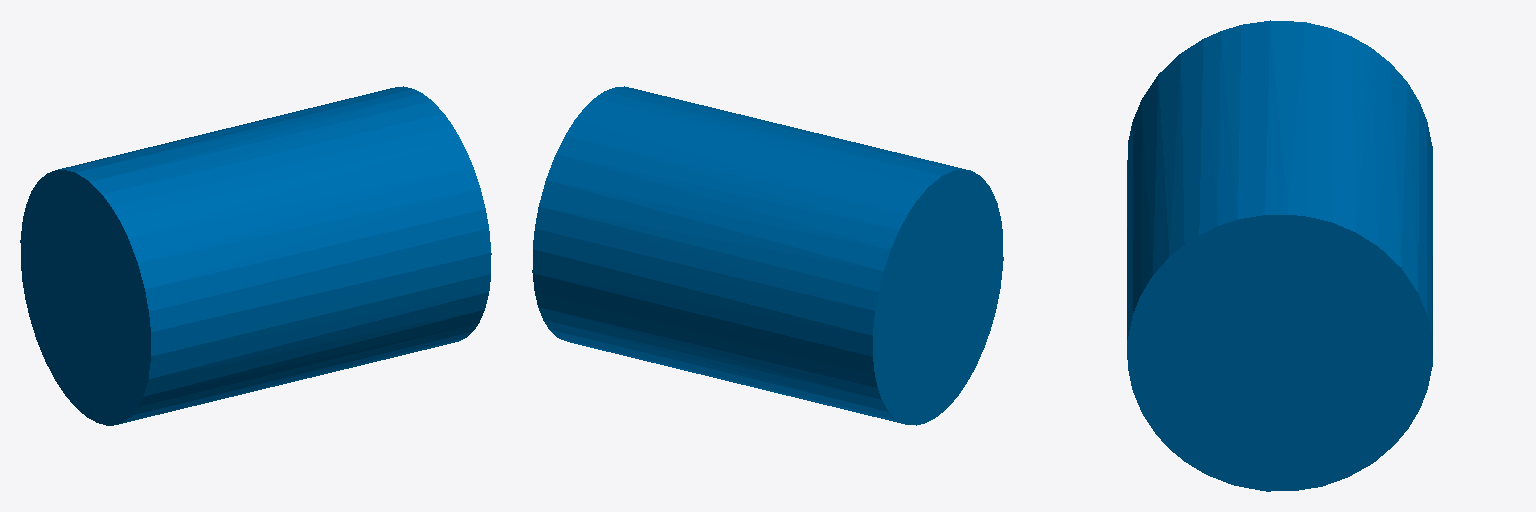
URDF robot description (panda):
<?xml version="1.0"?>
<!-- =================================================================================== -->
<!-- |    This document was autogenerated by xacro from /opt/ros/noetic/share/franka_description/robots/panda/panda.urdf.xacro | -->
<!-- |    EDITING THIS FILE BY HAND IS NOT RECOMMENDED                                 | -->
<!-- =================================================================================== -->
<robot name="panda">
    <!-- sub-link defining detailed meshes for collision with environment -->
    <link name="panda_link0">
        <visual>
            <geometry>
                <mesh filename="package://franka_description/meshes/visual/link0.dae" />
            </geometry>
        </visual>
        <collision>
            <geometry>
                <mesh filename="package://franka_description/meshes/collision/link0.stl" />
            </geometry>
        </collision>
        <inertial>
            <origin rpy="0 0 0" xyz="-0.0 -0.0000 0.00" />
            <mass value="0.629769" />
            <inertia ixx="0.00315" ixy="8.2904e-07" ixz="0.00015" iyy="0.00388" iyz="8.2299e-06" izz="0.004285" />
        </inertial>
    </link>
    <!-- sub-link defining coarse geometries of real robot's internal self-collision -->
    <link name="panda_link0_sc"></link>
    <!-- fixed joint between both sub-links -->
    <joint name="panda_link0_sc_joint" type="fixed">
        <origin rpy="0 0 0" />
        <parent link="panda_link0" />
        <child link="panda_link0_sc" />
    </joint>
    <!-- sub-link defining detailed meshes for collision with environment -->
    <link name="panda_link1">
        <visual>
            <geometry>
                <mesh filename="package://franka_description/meshes/visual/link1.dae" />
            </geometry>
        </visual>
        <collision>
            <geometry>
                <mesh filename="package://franka_description/meshes/collision/link1.stl" />
            </geometry>
        </collision>
        <inertial>
            <origin rpy="0 0 0" xyz="0.003875 0.002081 -0.04762" />
            <mass value="4.970684" />
            <inertia ixx="0.70337" ixy="-0.000139" ixz="0.006772" iyy="0.70661" iyz="0.019169" izz="0.009117" />
        </inertial>
    </link>
    <!-- sub-link defining coarse geometries of real robot's internal self-collision -->
    <link name="panda_link1_sc"></link>
    <!-- fixed joint between both sub-links -->
    <joint name="panda_link1_sc_joint" type="fixed">
        <origin rpy="0 0 0" />
        <parent link="panda_link1" />
        <child link="panda_link1_sc" />
    </joint>
    <joint name="panda_joint1" type="revolute">
        <origin rpy="0 0 0" xyz="0 0 0.333" />
        <parent link="panda_link0" />
        <child link="panda_link1" />
        <axis xyz="0 0 1" />
        <limit effort="87.0" lower="-2.8973" upper="2.8973" velocity="2.175" />
        <safety_controller k_position="100.0" k_velocity="40.0" soft_lower_limit="-2.8973" soft_upper_limit="2.8973" />
        <dynamics D="1" K="7000" damping="0.003" friction="0.0" mu_coulomb="0" mu_viscous="16" />
    </joint>
    <!-- sub-link defining detailed meshes for collision with environment -->
    <link name="panda_link2">
        <visual>
            <geometry>
                <mesh filename="package://franka_description/meshes/visual/link2.dae" />
            </geometry>
        </visual>
        <collision>
            <geometry>
                <mesh filename="package://franka_description/meshes/collision/link2.stl" />
            </geometry>
        </collision>
        <inertial>
            <origin rpy="0 0 0" xyz="-0.003141 -0.02872  0.003495" />
            <mass value="0.646926" />
            <inertia ixx="0.007962" ixy="-0.003925" ixz="0.010254" iyy="0.02811" iyz="0.000704" izz="0.025995" />
        </inertial>
    </link>
    <!-- sub-link defining coarse geometries of real robot's internal self-collision -->
    <link name="panda_link2_sc"></link>
    <!-- fixed joint between both sub-links -->
    <joint name="panda_link2_sc_joint" type="fixed">
        <origin rpy="0 0 0" />
        <parent link="panda_link2" />
        <child link="panda_link2_sc" />
    </joint>
    <joint name="panda_joint2" type="revolute">
        <origin rpy="-1.5707963267948966 0 0" xyz="0 0 0" />
        <parent link="panda_link1" />
        <child link="panda_link2" />
        <axis xyz="0 0 1" />
        <limit effort="87.0" lower="-1.7628" upper="1.7628" velocity="2.175" />
        <safety_controller k_position="100.0" k_velocity="40.0" soft_lower_limit="-1.7628" soft_upper_limit="1.7628" />
        <dynamics D="1" K="7000" damping="0.003" friction="0.0" mu_coulomb="0" mu_viscous="16" />
    </joint>
    <!-- sub-link defining detailed meshes for collision with environment -->
    <link name="panda_link3">
        <visual>
            <geometry>
                <mesh filename="package://franka_description/meshes/visual/link3.dae" />
            </geometry>
        </visual>
        <collision>
            <geometry>
                <mesh filename="package://franka_description/meshes/collision/link3.stl" />
            </geometry>
        </collision>
        <inertial>
            <origin rpy="0 0 0" xyz="2.7518e-02 3.9252e-02 -6.6502e-02" />
            <mass value="3.228604" />
            <inertia ixx="0.037242" ixy="-0.004761" ixz="-0.011396" iyy="0.036155" iyz="-0.012805" izz="0.01083" />
        </inertial>
    </link>
    <!-- sub-link defining coarse geometries of real robot's internal self-collision -->
    <link name="panda_link3_sc"></link>
    <!-- fixed joint between both sub-links -->
    <joint name="panda_link3_sc_joint" type="fixed">
        <origin rpy="0 0 0" />
        <parent link="panda_link3" />
        <child link="panda_link3_sc" />
    </joint>
    <joint name="panda_joint3" type="revolute">
        <origin rpy="1.5707963267948966 0 0" xyz="0 -0.316 0" />
        <parent link="panda_link2" />
        <child link="panda_link3" />
        <axis xyz="0 0 1" />
        <limit effort="87.0" lower="-2.8973" upper="2.8973" velocity="2.175" />
        <safety_controller k_position="100.0" k_velocity="40.0" soft_lower_limit="-2.8973" soft_upper_limit="2.8973" />
        <dynamics D="1" K="7000" damping="0.003" friction="0.0" mu_coulomb="0" mu_viscous="16" />
    </joint>
    <!-- sub-link defining detailed meshes for collision with environment -->
    <link name="panda_link4">
        <visual>
            <geometry>
                <mesh filename="package://franka_description/meshes/visual/link4.dae" />
            </geometry>
        </visual>
        <collision>
            <geometry>
                <mesh filename="package://franka_description/meshes/collision/link4.stl" />
            </geometry>
        </collision>
        <inertial>
            <origin rpy="0 0 0" xyz="-5.317e-02 1.04419e-01 2.7454e-02" />
            <mass value="3.587895" />
            <inertia ixx="0.025853" ixy="0.007796" ixz="-0.001332" iyy="0.019552" iyz="0.008641" izz="0.028323" />
        </inertial>
    </link>
    <!-- sub-link defining coarse geometries of real robot's internal self-collision -->
    <link name="panda_link4_sc"></link>
    <!-- fixed joint between both sub-links -->
    <joint name="panda_link4_sc_joint" type="fixed">
        <origin rpy="0 0 0" />
        <parent link="panda_link4" />
        <child link="panda_link4_sc" />
    </joint>
    <joint name="panda_joint4" type="revolute">
        <origin rpy="1.5707963267948966 0 0" xyz="0.0825 0 0" />
        <parent link="panda_link3" />
        <child link="panda_link4" />
        <axis xyz="0 0 1" />
        <limit effort="87.0" lower="-3.0718" upper="-0.0698" velocity="2.175" />
        <safety_controller k_position="100.0" k_velocity="40.0" soft_lower_limit="-3.0718" soft_upper_limit="-0.0698" />
        <dynamics D="1" K="7000" damping="0.003" friction="0.0" mu_coulomb="0" mu_viscous="16" />
    </joint>
    <!-- sub-link defining detailed meshes for collision with environment -->
    <link name="panda_link5">
        <visual>
            <geometry>
                <mesh filename="package://franka_description/meshes/visual/link5.dae" />
            </geometry>
        </visual>
        <collision>
            <geometry>
                <mesh filename="package://franka_description/meshes/collision/link5.stl" />
            </geometry>
        </collision>
        <inertial>
            <origin rpy="0 0 0" xyz="-1.1953e-02 4.1065e-02 -3.8437e-02" />
            <mass value="1.225946" />
            <inertia ixx="0.035549" ixy="-0.002117" ixz="-0.004037" iyy="0.029474" iyz="0.000229" izz="0.008627" />
        </inertial>
    </link>
    <!-- sub-link defining coarse geometries of real robot's internal self-collision -->
    <link name="panda_link5_sc"></link>
    <!-- fixed joint between both sub-links -->
    <joint name="panda_link5_sc_joint" type="fixed">
        <origin rpy="0 0 0" />
        <parent link="panda_link5" />
        <child link="panda_link5_sc" />
    </joint>
    <joint name="panda_joint5" type="revolute">
        <origin rpy="-1.5707963267948966 0 0" xyz="-0.0825 0.384 0" />
        <parent link="panda_link4" />
        <child link="panda_link5" />
        <axis xyz="0 0 1" />
        <limit effort="12.0" lower="-2.8973" upper="2.8973" velocity="2.61" />
        <safety_controller k_position="100.0" k_velocity="40.0" soft_lower_limit="-2.8973" soft_upper_limit="2.8973" />
        <dynamics D="1" K="7000" damping="0.003" friction="0.0" mu_coulomb="0" mu_viscous="16" />
    </joint>
    <!-- sub-link defining detailed meshes for collision with environment -->
    <link name="panda_link6">
        <visual>
            <geometry>
                <mesh filename="package://franka_description/meshes/visual/link6.dae" />
            </geometry>
        </visual>
        <collision>
            <geometry>
                <mesh filename="package://franka_description/meshes/collision/link6.stl" />
            </geometry>
        </collision>
        <inertial>
            <origin rpy="0 0 0" xyz="6.0149e-02 -1.4117e-02 -1.0517e-02" />
            <mass value="1.666555" />
            <inertia ixx="0.001964" ixy="0.000109" ixz="-0.001158" iyy="0.004354" iyz="0.000341" izz="0.005433" />
        </inertial>
    </link>
    <!-- sub-link defining coarse geometries of real robot's internal self-collision -->
    <link name="panda_link6_sc"></link>
    <!-- fixed joint between both sub-links -->
    <joint name="panda_link6_sc_joint" type="fixed">
        <origin rpy="0 0 0" />
        <parent link="panda_link6" />
        <child link="panda_link6_sc" />
    </joint>
    <joint name="panda_joint6" type="revolute">
        <origin rpy="1.5707963267948966 0 0" xyz="0 0 0" />
        <parent link="panda_link5" />
        <child link="panda_link6" />
        <axis xyz="0 0 1" />
        <limit effort="12.0" lower="-0.0175" upper="3.7525" velocity="2.61" />
        <safety_controller k_position="100.0" k_velocity="40.0" soft_lower_limit="-0.0175" soft_upper_limit="3.7525" />
        <dynamics D="1" K="7000" damping="0.003" friction="0.0" mu_coulomb="0" mu_viscous="16" />
    </joint>
    <!-- sub-link defining detailed meshes for collision with environment -->
    <link name="panda_link7">
        <visual>
            <geometry>
                <mesh filename="package://franka_description/meshes/visual/link7.dae" />
            </geometry>
        </visual>
        <collision>
            <geometry>
                <mesh filename="package://franka_description/meshes/collision/link7.stl" />
            </geometry>
        </collision>
        <inertial>
            <origin rpy="0 0 0" xyz="1.0517e-02 -4.252e-03 6.1597e-02" />
            <mass value="0.735522" />
            <inertia ixx="0.012516" ixy="-0.000428" ixz="-0.001196" iyy="0.010027" iyz="-0.000741" izz="0.004815" />
        </inertial>
    </link>
    <!-- sub-link defining coarse geometries of real robot's internal self-collision -->
    <link name="panda_link7_sc"></link>
    <!-- fixed joint between both sub-links -->
    <joint name="panda_link7_sc_joint" type="fixed">
        <origin rpy="0 0 0.7853981633974483" />
        <parent link="panda_link7" />
        <child link="panda_link7_sc" />
    </joint>
    <joint name="panda_joint7" type="revolute">
        <origin rpy="1.5707963267948966 0 0" xyz="0.088 0 0" />
        <parent link="panda_link6" />
        <child link="panda_link7" />
        <axis xyz="0 0 1" />
        <limit effort="12.0" lower="-2.8973" upper="2.8973" velocity="2.61" />
        <safety_controller k_position="100.0" k_velocity="40.0" soft_lower_limit="-2.8973" soft_upper_limit="2.8973" />
        <dynamics D="1" K="7000" damping="0.003" friction="0.0" mu_coulomb="0" mu_viscous="16" />
    </joint>
    <link name="panda_link8" />
    <joint name="panda_joint8" type="fixed">
        <origin rpy="0 0 0" xyz="0 0 0.107" />
        <parent link="panda_link7" />
        <child link="panda_link8" />
    </joint>
    <joint name="panda_hand_joint" type="fixed">
        <parent link="panda_link8" />
        <child link="panda_hand" />
        <origin rpy="0 0 -0.7853981633974483" xyz="0 0 0" />
    </joint>
    <!-- sub-link defining detailed meshes for collision with environment -->
    <link name="panda_hand">
        <visual>
            <geometry>
                <mesh filename="package://franka_description/meshes/visual/hand.dae" />
            </geometry>
        </visual>
        <collision>
            <geometry>
                <mesh filename="package://franka_description/meshes/collision/hand.stl" />
            </geometry>
        </collision>
        <inertial>
            <origin rpy="0 0 0" xyz="-0.01 0 0.03" />
            <mass value="0.73" />
            <inertia ixx="0.001" ixy="0" ixz="0" iyy="0.0025" iyz="0" izz="0.0017" />
        </inertial>
    </link>
    <!-- sub-link defining coarse geometries of real robot's internal self-collision -->
    <link name="panda_hand_sc"></link>
    <!-- fixed joint between both sub-links -->
    <joint name="panda_hand_sc_joint" type="fixed">
        <origin rpy="0 0 0" />
        <parent link="panda_hand" />
        <child link="panda_hand_sc" />
    </joint>
    <!-- Define the hand_tcp frame -->
    <link name="panda_hand_tcp" />
    <joint name="panda_hand_tcp_joint" type="fixed">
        <origin rpy="0 0 0" xyz="0 0 0.1034" />
        <parent link="panda_hand" />
        <child link="panda_hand_tcp" />
    </joint>
    <link name="peg">
        <inertial>
            <origin xyz="0 0 0" rpy="0 0 0"/>
            <mass value="0.15"/>
            <inertia ixx="0.00046875"  ixy="0"  ixz="0" iyy="0.00046875" iyz="0" izz="0" />
        </inertial>
      
        <visual>
            <origin xyz="-0.025 -0.025 -0.03750" rpy="0 0 0" />
            <geometry>
                <mesh filename="package://bopt_gmm/objects/cylinder/cylinder.obj" scale="1.0 1.0 1.0"/>
            </geometry>
            <!-- <origin xyz="0 0 0" rpy="0 0 0"/>
              <geometry>
                <cylinder radius="0.025" length="0.075"/>
              </geometry> -->
        </visual>
      
        <collision>
            <origin xyz="0 0 0" rpy="0 0 0"/>
            <geometry>
                <cylinder radius="0.025" length="0.075"/>
            </geometry>
        </collision>

        <contact>
            <friction_anchor/>
            <lateral_friction value="0.0"/>
            <rolling_friction value="0.0"/>
            <spinning_friction value="0.0"/>
          </contact>
    </link>
    <joint name="peg_joint" type="fixed">
        <origin rpy="0 0 0" xyz="0 0 0.02" />
        <parent link="panda_hand_tcp" />
        <child link="peg" />
    </joint>
</robot>

--- Render facts (derived) ---
The picture shows the robot from 3 angles, left to right: view 1: azimuth 30°, elevation 25°; view 2: azimuth 150°, elevation 25°; view 3: azimuth 270°, elevation 25°; orthographic projection.
Model panda with 21 links and 20 joints (7 revolute, 13 fixed), rooted at panda_link0, posed joints at zero except 1 at the middle of their limits (panda_joint4 = -1.57).
Links seen in each view (by area): view 1: peg; view 2: peg; view 3: peg.
Link boxes in pixels (left/top/right/bottom): peg: left=20, top=86, right=491, bottom=425; peg: left=532, top=86, right=1003, bottom=425; peg: left=1127, top=20, right=1432, bottom=491.
Size in the robot's own frame: 0.075 by 0.0499 by 0.05 metres.
1 mesh visuals loaded from 10 distinct referenced files (1 OBJ); not drawn: 9 (reference not matched to a file when rendering).